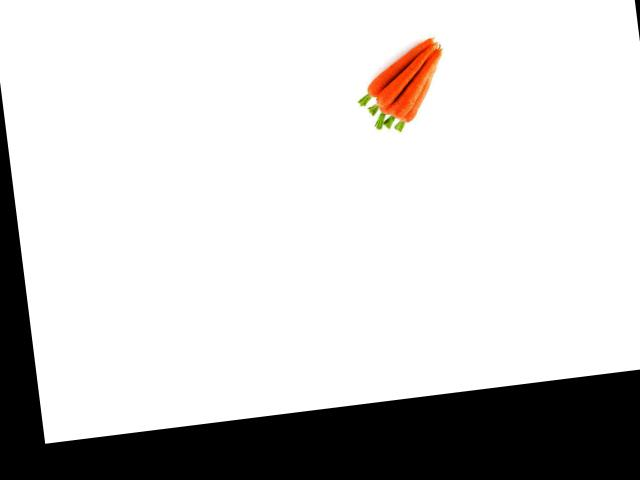carrot: (356, 31, 437, 97)
